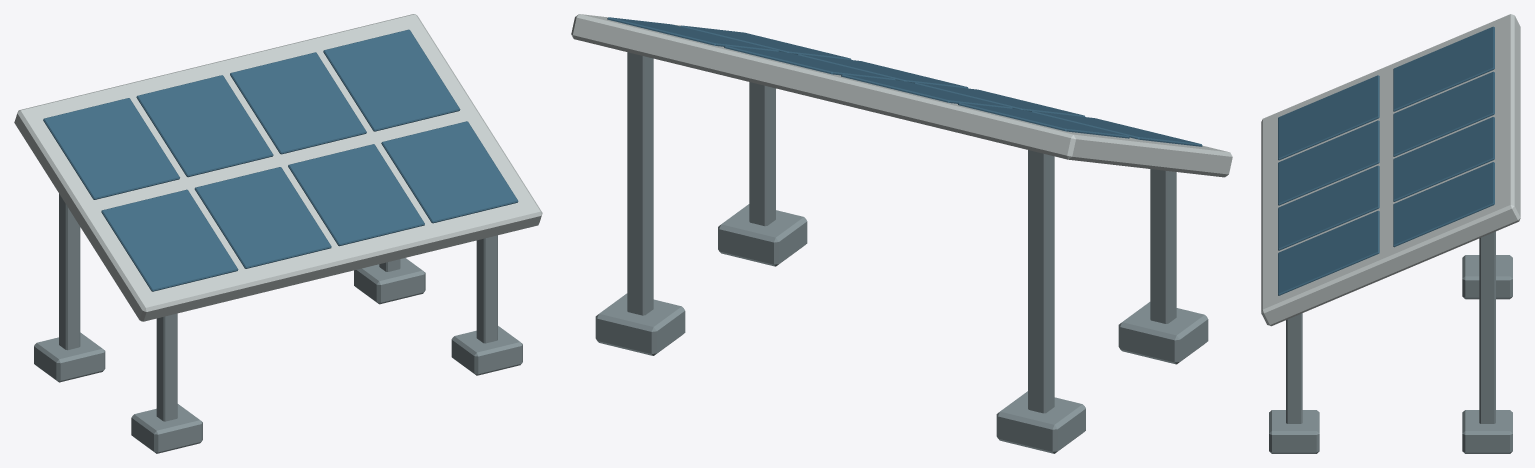
3 renders of one model, left to right at view 1: azimuth 30°, elevation 25°; view 2: azimuth 150°, elevation 25°; view 3: azimuth 270°, elevation 25°, orthographic. The views are drawn at different scales.
Visible parts, largest first — view 1: renewable-solar-rack-01; view 2: renewable-solar-rack-01; view 3: renewable-solar-rack-01.
Part boxes in pixels (x1,y1,x2,y2): renewable-solar-rack-01: (14,14,542,453); renewable-solar-rack-01: (571,14,1232,453); renewable-solar-rack-01: (1261,14,1520,453).
Bounding box in the file's own units: 1.8 × 1.11 × 1.02.
